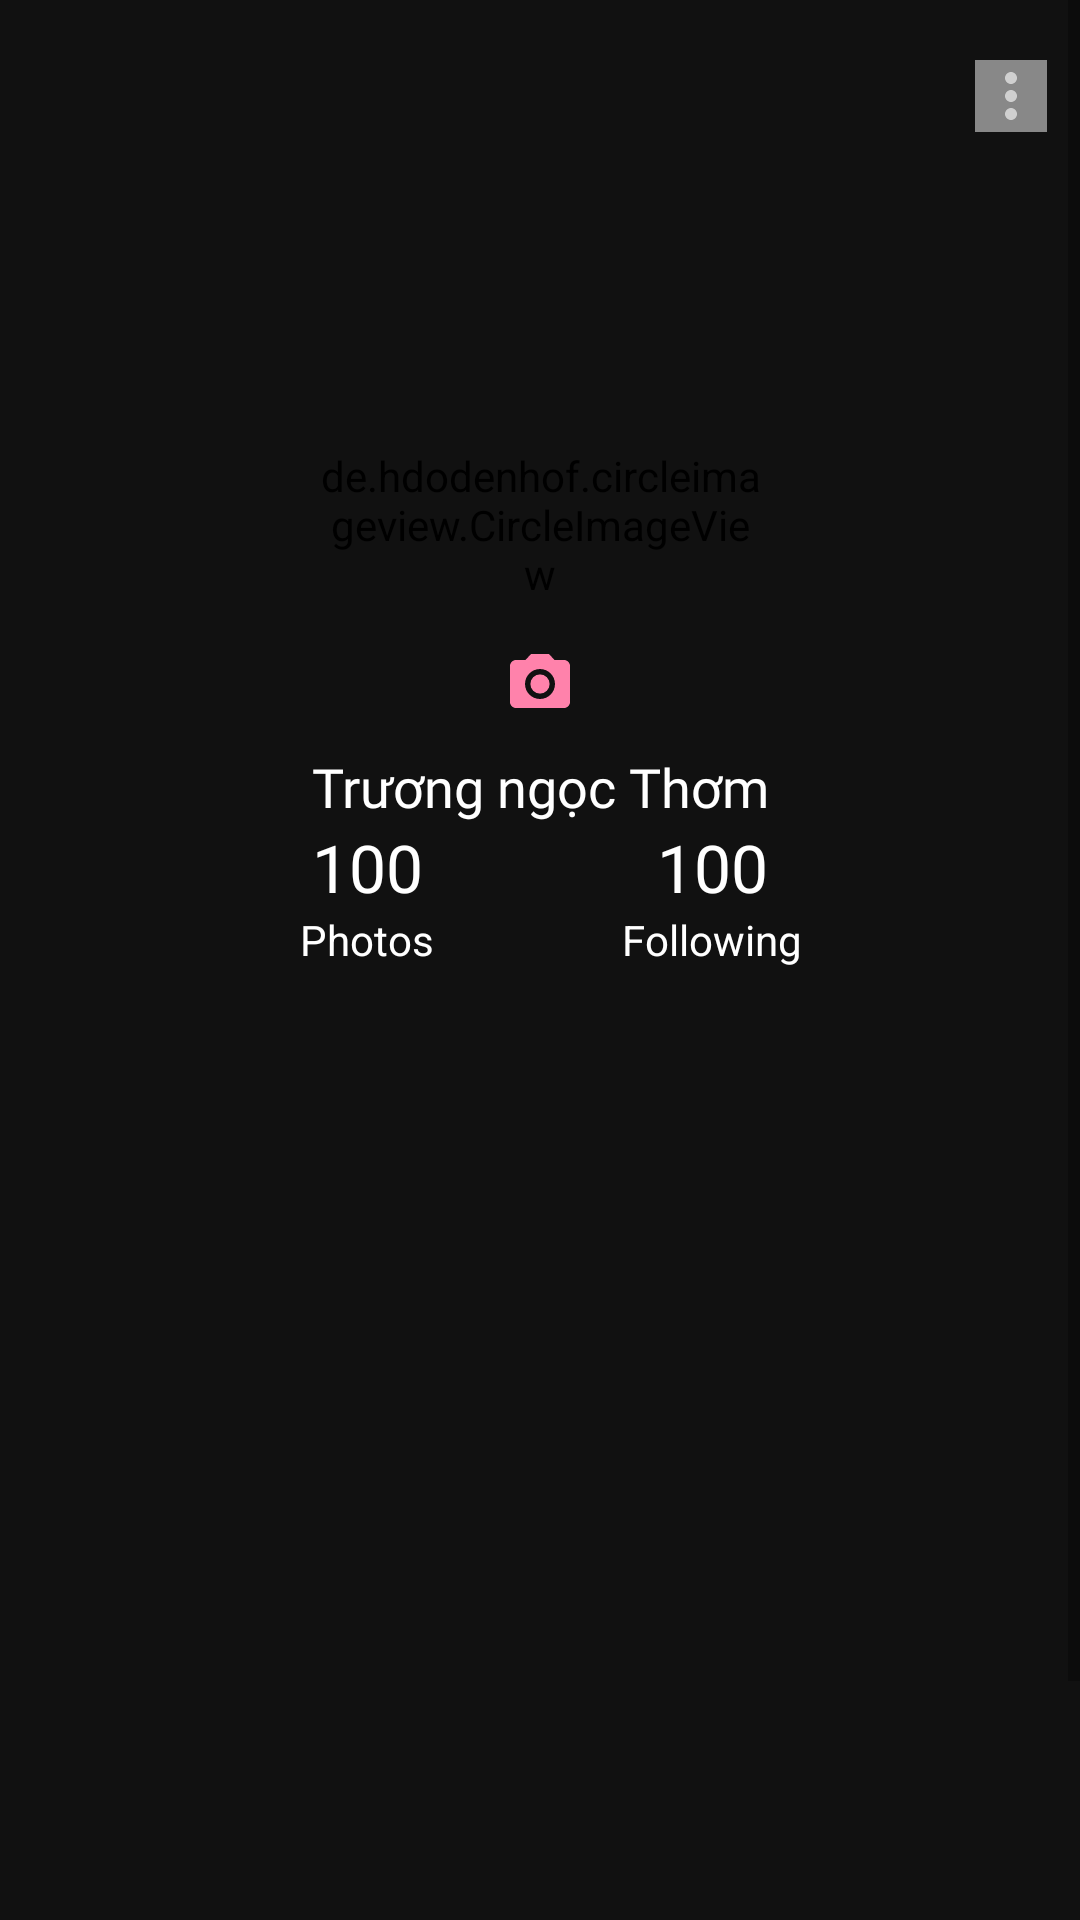

Named icons in this screenshot (1080w x 1920h) and their centers, point (x, y):
more: point (1011, 96)
photo camera: point (540, 681)
